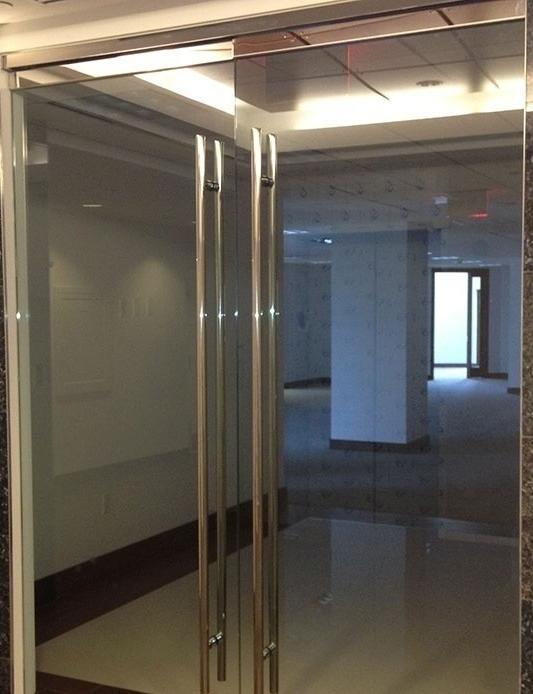door: (231, 34, 533, 693), (13, 43, 234, 694)
